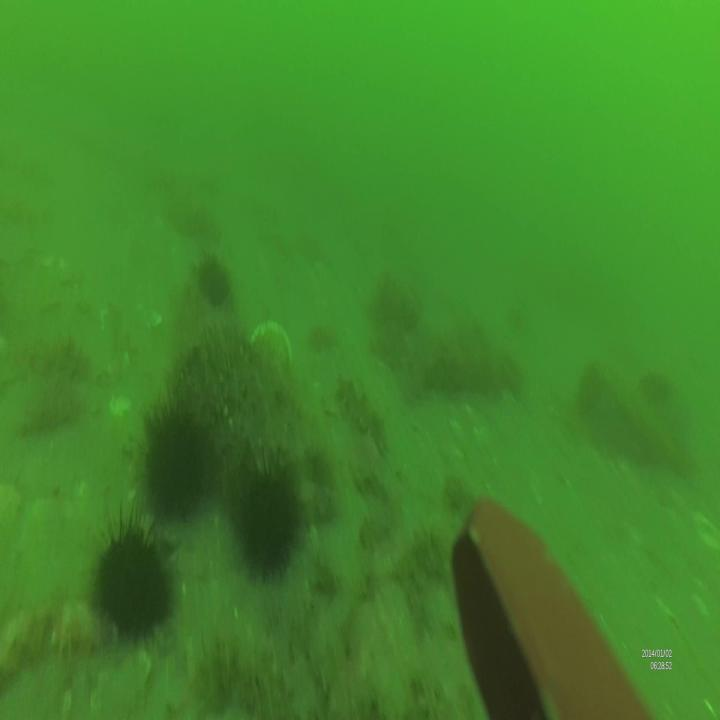echinus: (90, 504, 176, 649), (138, 392, 219, 526), (232, 442, 305, 585), (194, 246, 236, 310)
holothurian: (336, 372, 386, 455), (35, 338, 97, 392), (20, 396, 89, 444)
scallop: (249, 319, 295, 380)
